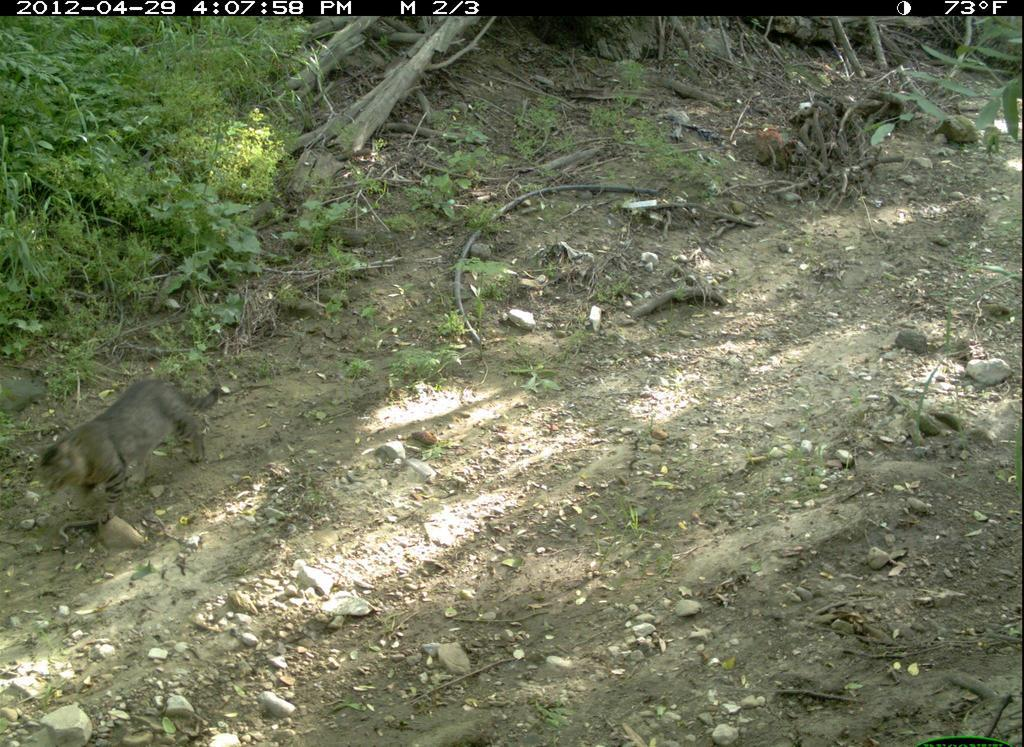cat: (25, 351, 244, 542)
